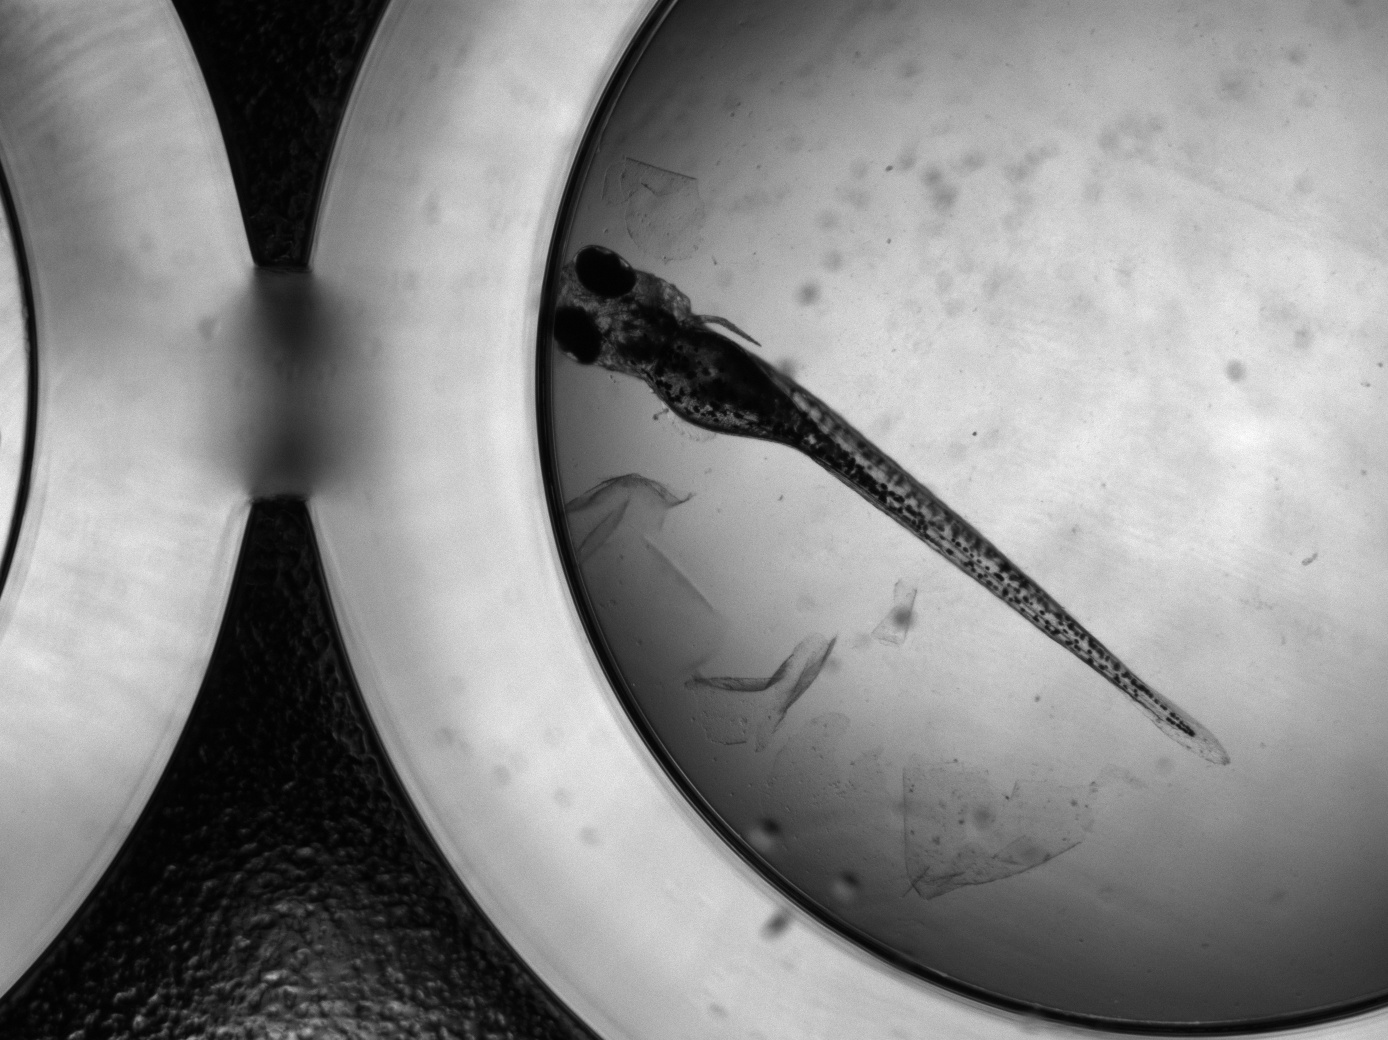debris: (560, 473, 722, 666), (899, 751, 1098, 899), (693, 630, 835, 744), (600, 155, 709, 262)
embryo: (551, 246, 1200, 740)
eye: (576, 246, 636, 297), (551, 307, 602, 365)
yolksac: (654, 331, 778, 439)
